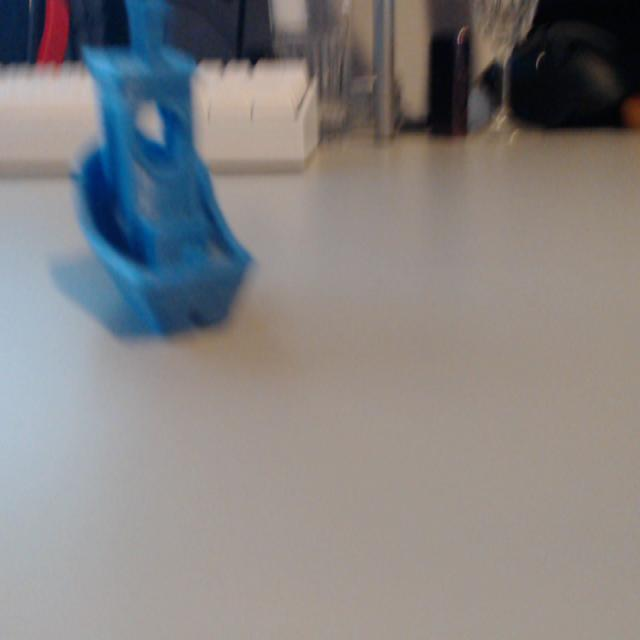benchy: (67, 34, 257, 338)
